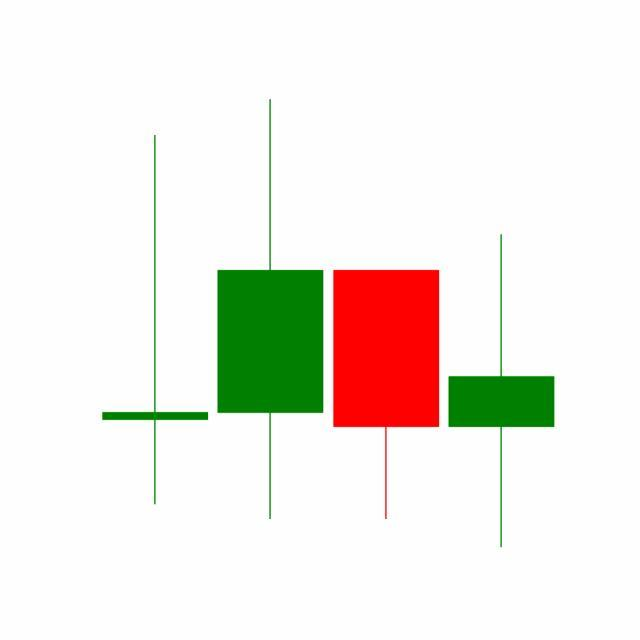Spinning Top: (444, 231, 560, 551)
